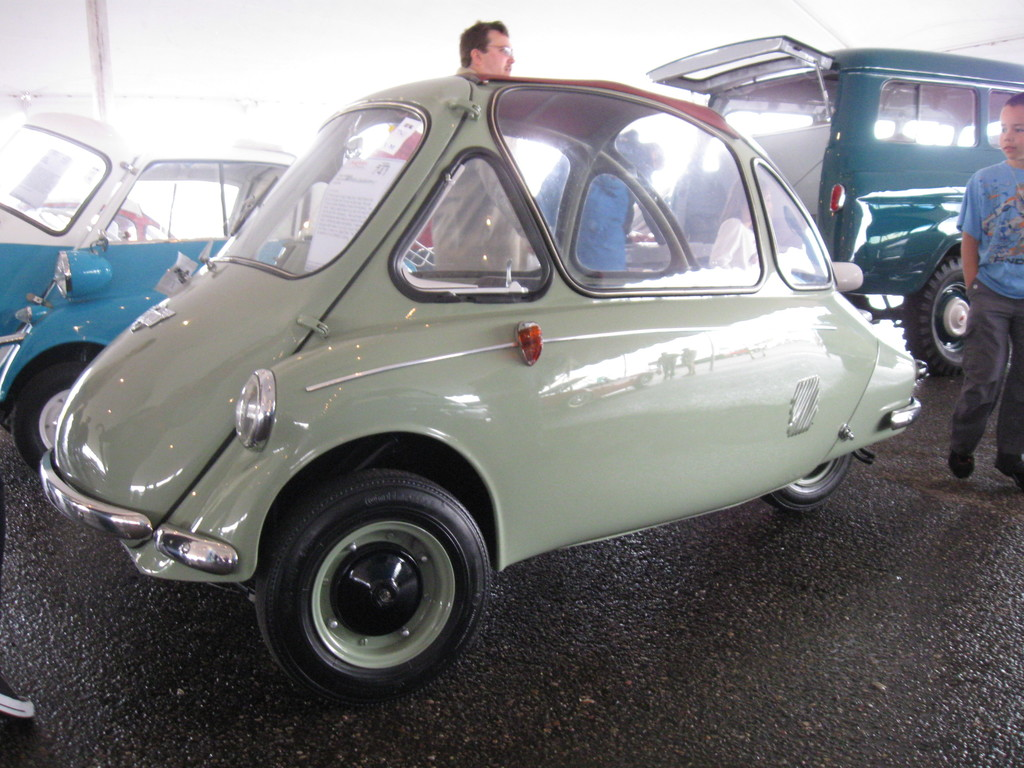person: (453, 18, 518, 82)
